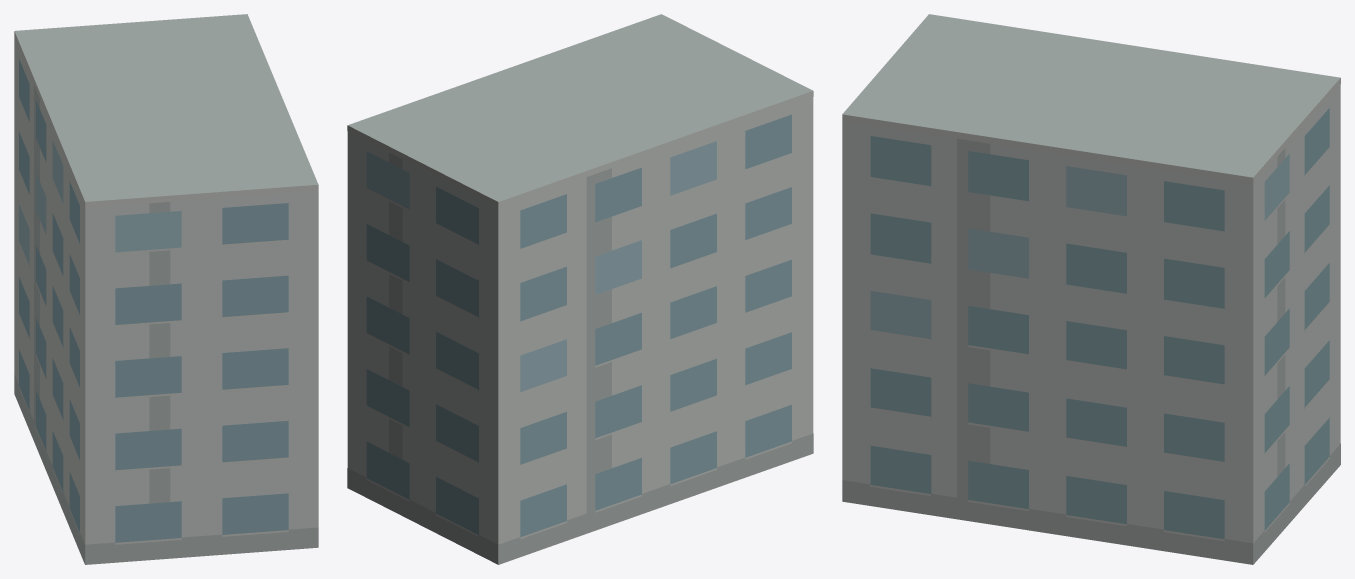
Rendered from survey-upis-32890819.glb.
3 renders of one model, left to right at view 1: azimuth 30°, elevation 25°; view 2: azimuth 150°, elevation 25°; view 3: azimuth 270°, elevation 25°, orthographic. The views are drawn at different scales.
Parts seen in each view (by area): view 1: survey-upis-32890819.tmp; view 2: survey-upis-32890819.tmp; view 3: survey-upis-32890819.tmp.
Part boxes in pixels (x1,y1,x2,y2): survey-upis-32890819.tmp: [14, 14, 318, 564]; survey-upis-32890819.tmp: [347, 14, 813, 564]; survey-upis-32890819.tmp: [842, 14, 1340, 564].
Size of the model in its own units: 13.06 by 14.4 by 16.81.
